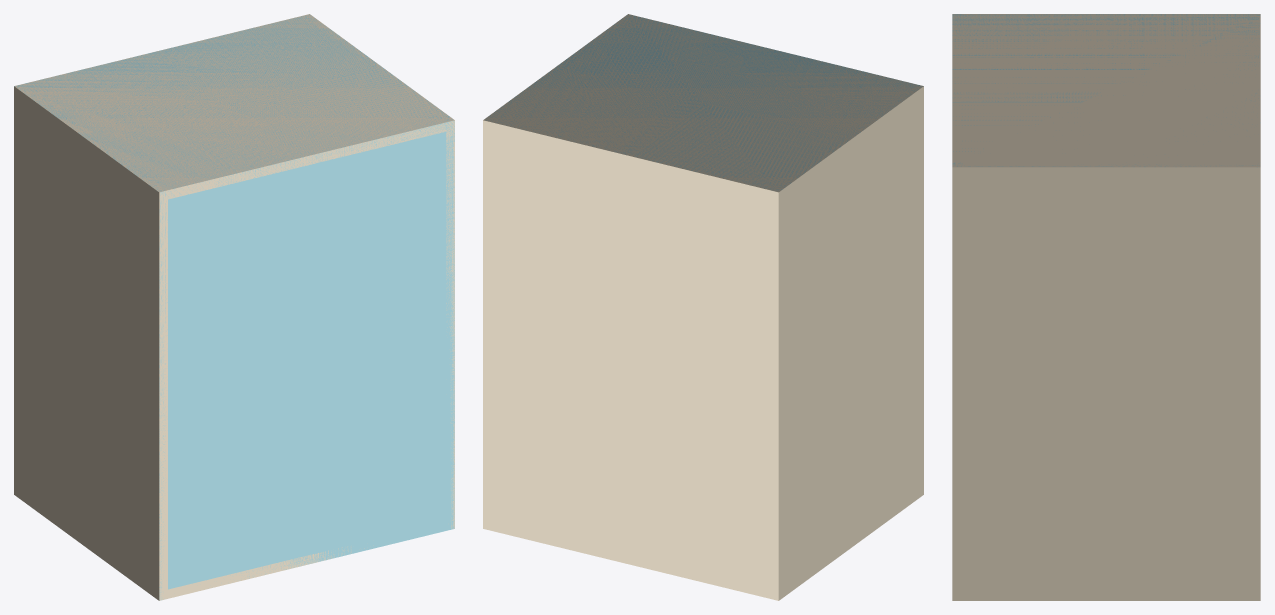
The picture shows the model from 3 angles, left to right: view 1: azimuth 30°, elevation 25°; view 2: azimuth 150°, elevation 25°; view 3: azimuth 270°, elevation 25°; orthographic projection. The views are drawn at different scales.
Visible parts, largest first — view 1: Node1; view 2: Node1; view 3: Node1.
Boxes of the visible parts, x1=… form: Node1: x1=14, y1=14, x2=454, y2=600; Node1: x1=483, y1=14, x2=923, y2=600; Node1: x1=952, y1=14, x2=1260, y2=600.
Size of the model in its own units: 600 by 803 by 510.
